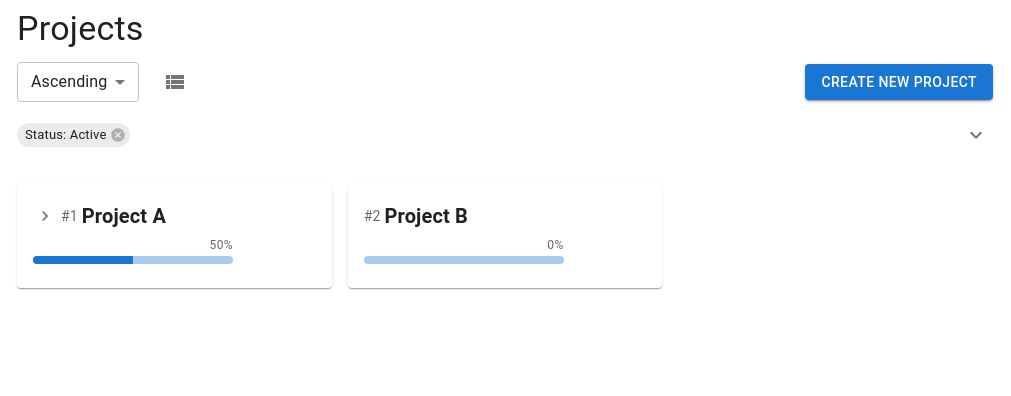
Test: Projects Component › shows expand arrow and subprojects inside same card when project has children
The image size is (1011, 396).
Step 1. Click the button named "expand subprojects" → (45, 216), box [33,204,57,228]
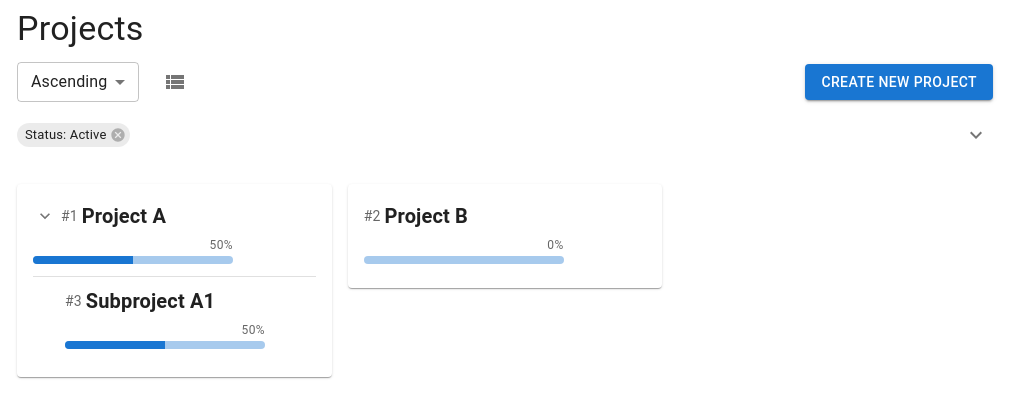
Result: the heading "Subproject A1" is shown at [86,285,215,317]
Result: the button named "collapse subprojects" is shown at [33,204,57,228]
